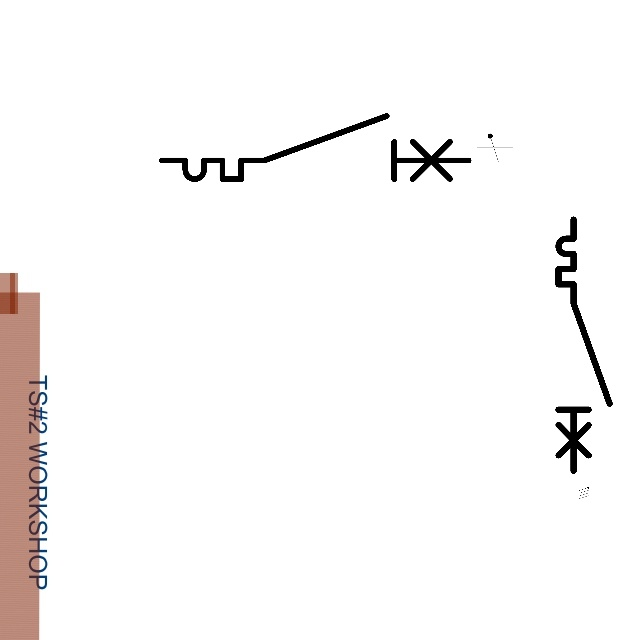interruptor_termomagnetico: (154, 108, 476, 187), (552, 213, 616, 477)
